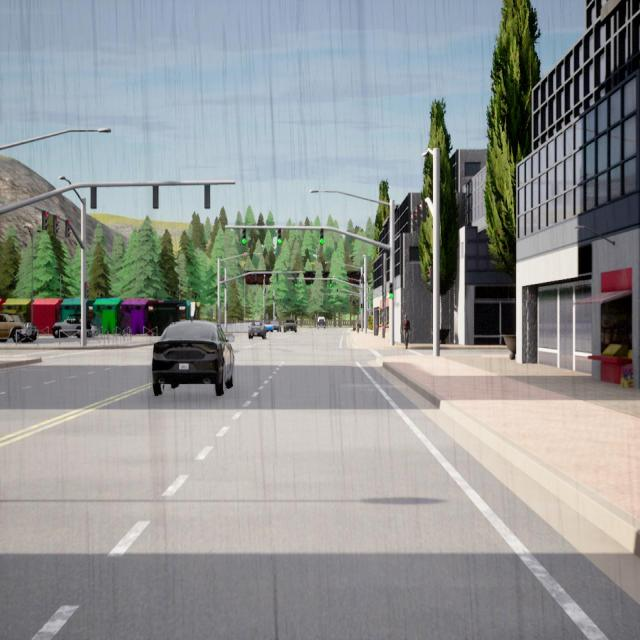Pedestrian: (402, 314, 410, 349), (356, 316, 360, 334)
Traffic_Signs: (274, 316, 276, 320)
Vehicle: (152, 320, 234, 395), (0, 312, 37, 342), (52, 314, 92, 338), (248, 320, 266, 340), (284, 319, 297, 333), (270, 320, 282, 332), (317, 317, 326, 329), (266, 324, 274, 333)
traffic_light: (204, 184, 210, 208), (42, 210, 49, 230), (53, 214, 60, 234), (90, 186, 96, 209), (152, 186, 158, 208), (65, 220, 71, 238), (429, 266, 433, 288), (84, 282, 89, 298), (242, 228, 247, 244), (277, 228, 282, 244), (320, 228, 324, 244), (389, 283, 393, 298), (413, 211, 416, 229), (423, 202, 426, 220), (418, 204, 420, 226), (254, 274, 257, 281), (329, 279, 332, 286), (276, 273, 278, 281), (294, 273, 296, 281), (310, 280, 312, 287), (360, 304, 362, 311), (226, 304, 228, 310), (328, 294, 330, 299), (295, 282, 297, 286), (338, 295, 340, 299), (265, 288, 266, 293), (337, 289, 338, 293), (273, 296, 274, 300)
